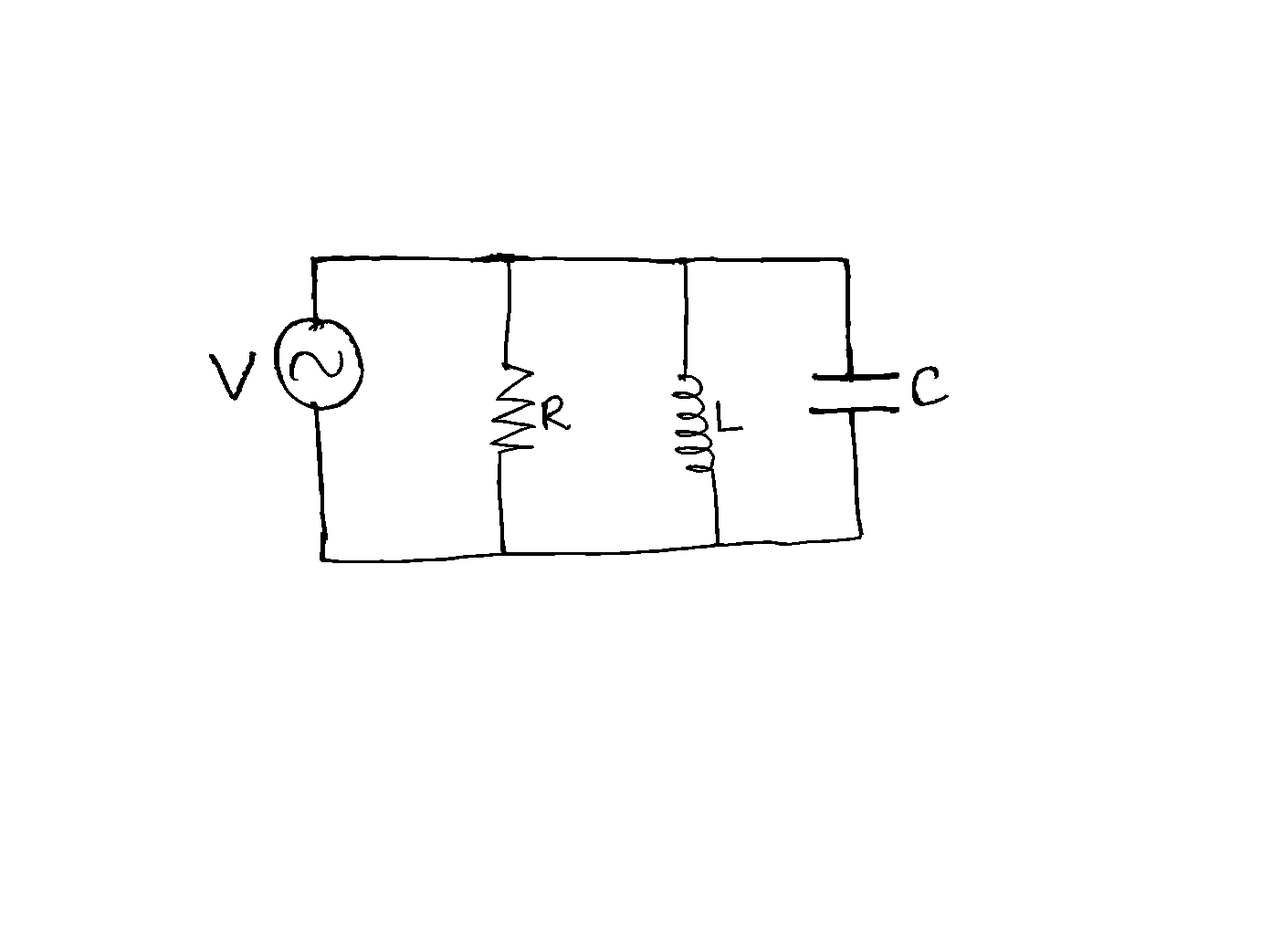capacitor.unpolarized: (804, 366, 903, 419)
inductor: (668, 371, 717, 474)
junction: (499, 249, 522, 271), (674, 253, 696, 273), (848, 526, 868, 547), (835, 251, 856, 270), (495, 544, 514, 561), (306, 254, 325, 270), (314, 551, 332, 567), (709, 535, 726, 551)
resistor: (485, 360, 539, 458)
text: (207, 350, 260, 403), (910, 362, 950, 411), (541, 392, 572, 432), (713, 397, 746, 433)
voltage.ac: (269, 313, 365, 412)
